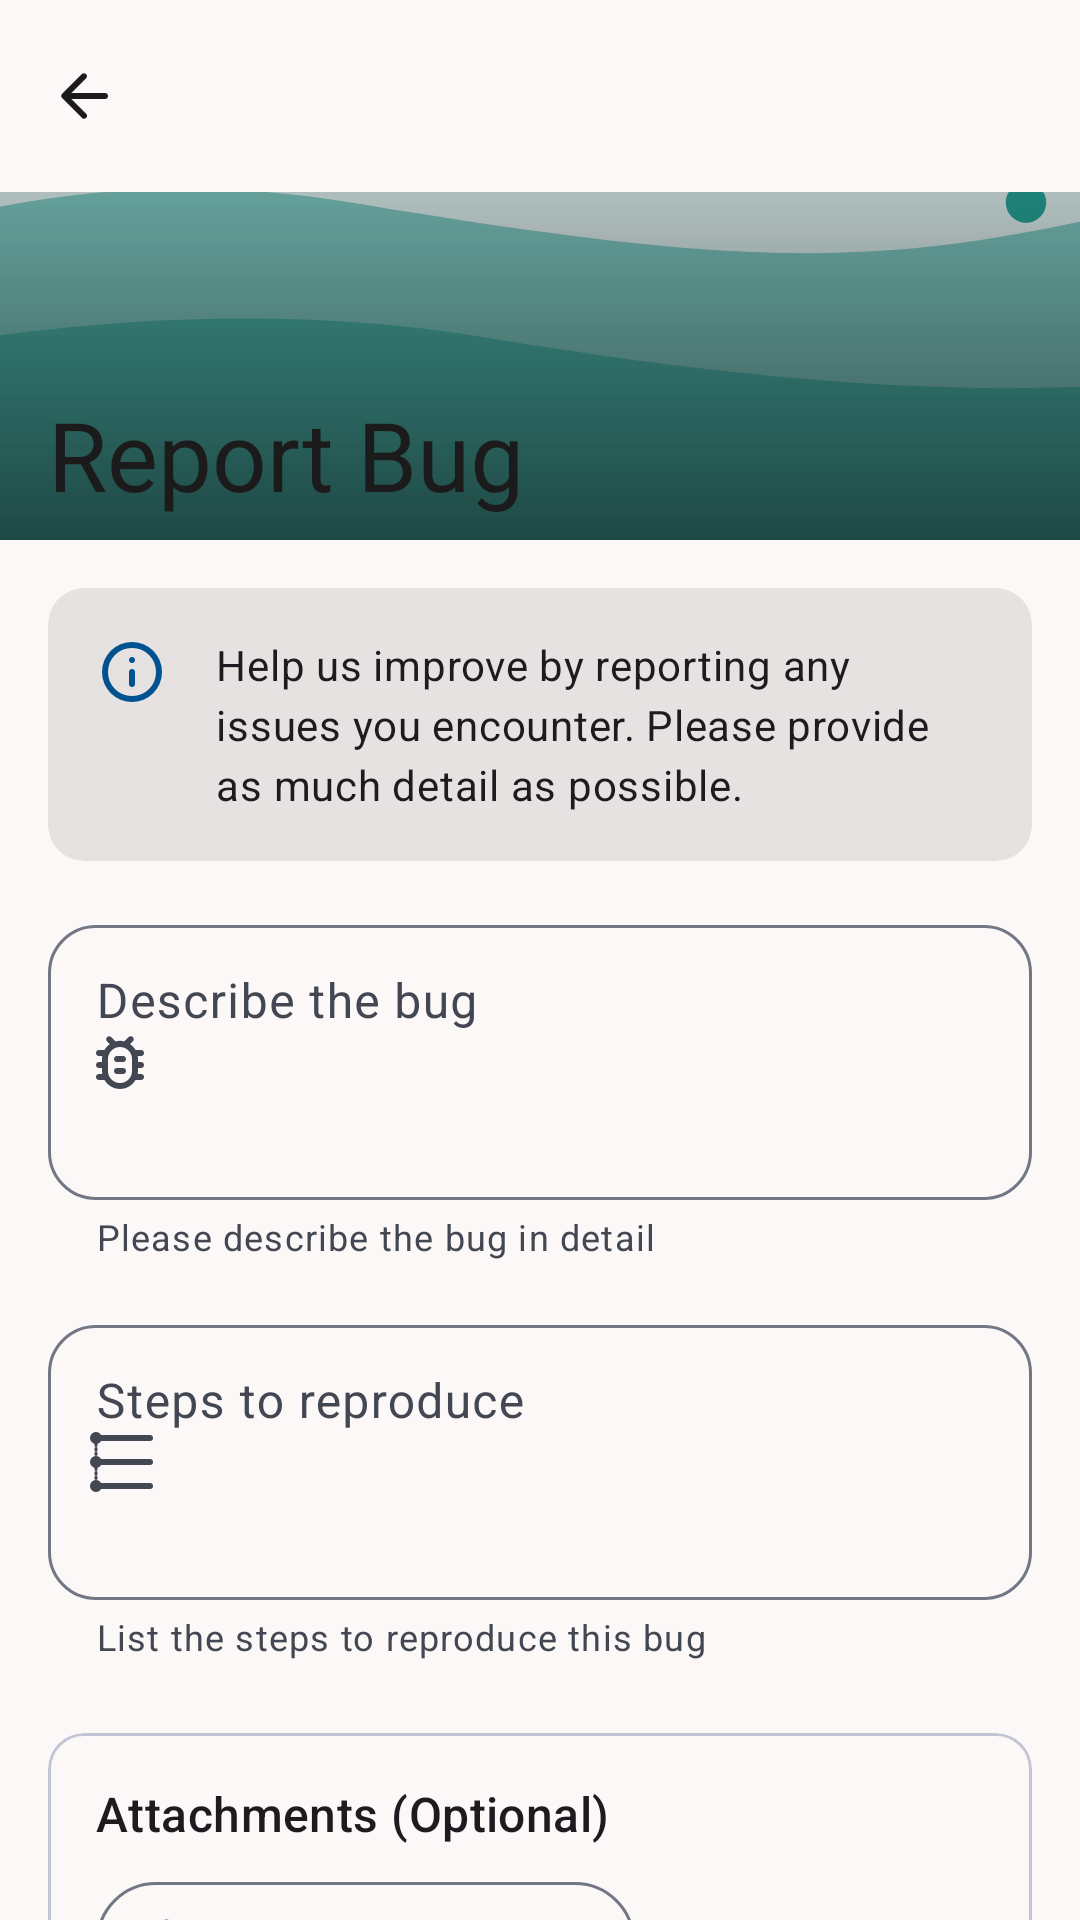

Named icons in this screenshot (1080px x 1920px) and their bounding boxes, (left=x1, top=y1, right=x2, bottom=y2):
info: (left=102, top=642, right=162, bottom=702)
